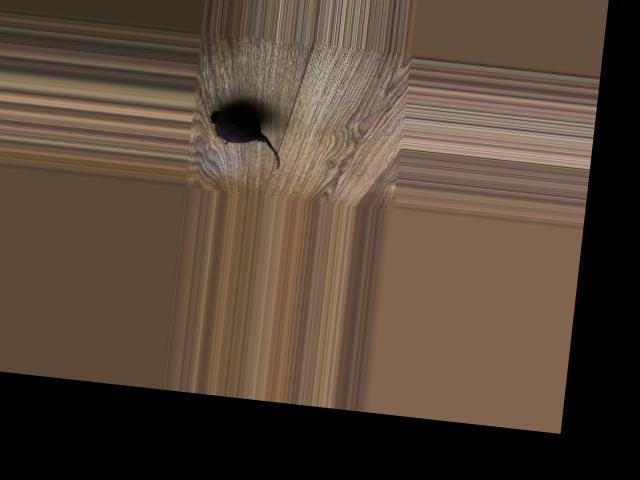beet: (207, 105, 287, 169)
